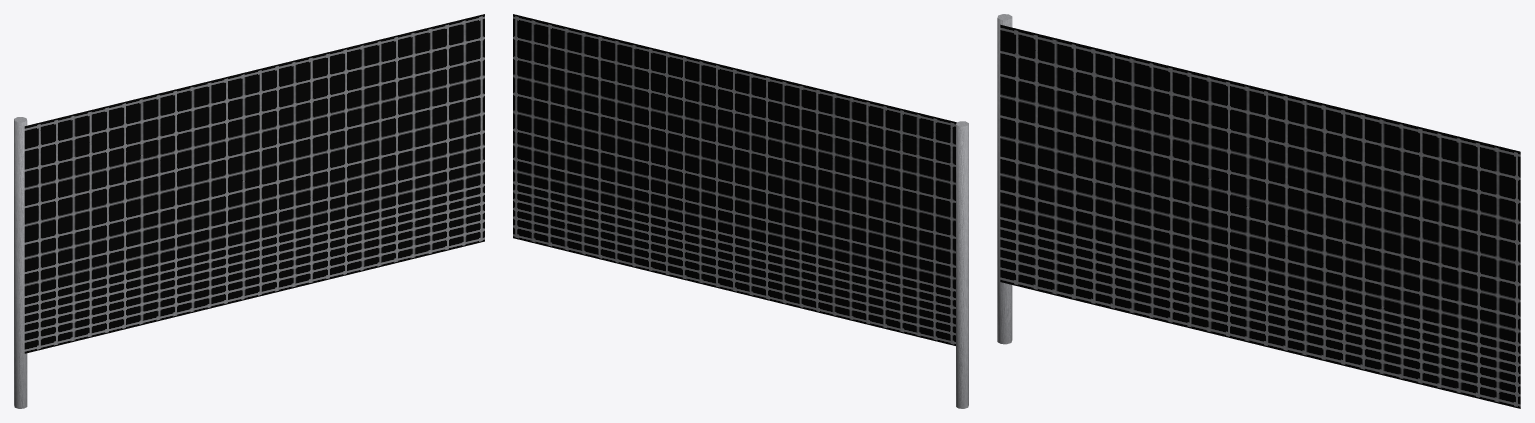
Rendered from fence-tall-mesh-pole-1s-cbj_LOD01.gltf.
3 views of the same model, side by side, from view 1: azimuth 30°, elevation 25°; view 2: azimuth 150°, elevation 25°; view 3: azimuth 330°, elevation 25° (orthographic). The views are drawn at different scales.
Parts seen in each view (by area): view 1: Cube.001; view 2: Cube.001; view 3: Cube.001.
Boxes of the visible parts, x1,y1,x2,y2 form: Cube.001: (14, 14, 484, 408); Cube.001: (513, 14, 968, 408); Cube.001: (997, 14, 1520, 408).
Size of the model in its own units: 3.96 by 2.33 by 0.11.
